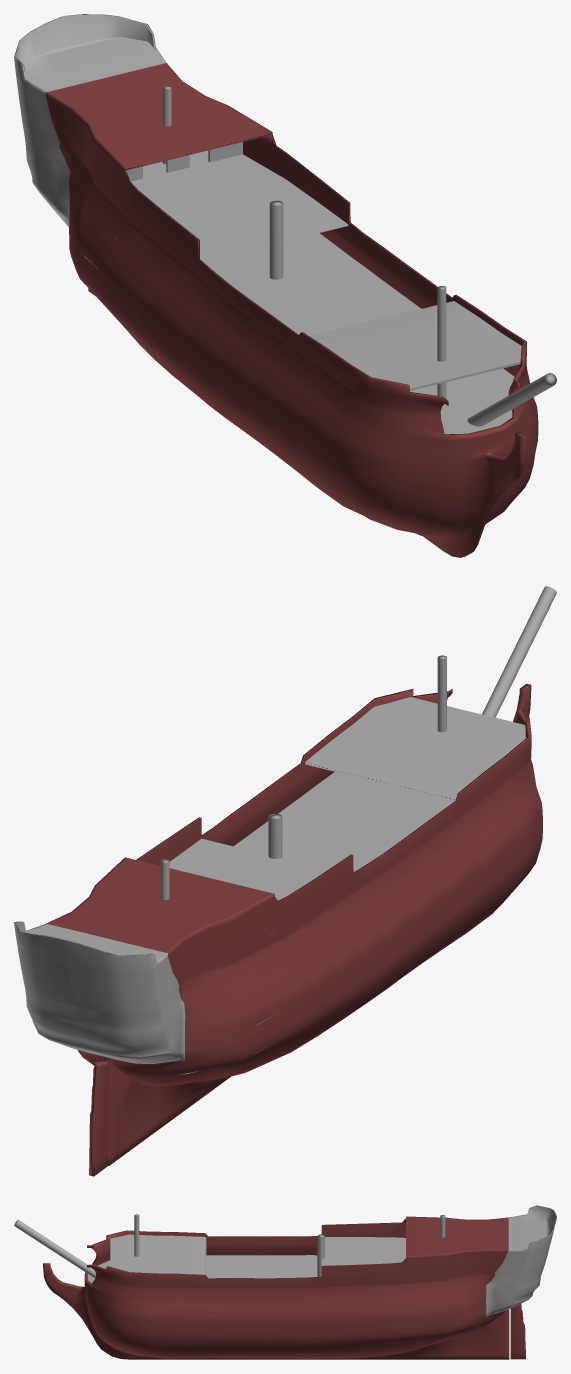
File: fase_8_HMS_Victory.fbx
3 views of the same model, one above another, from view 1: azimuth 30°, elevation 25°; view 2: azimuth 150°, elevation 25°; view 3: azimuth 270°, elevation 25° (orthographic). The views are drawn at different scales.
Parts seen in each view (by area): view 1: ShipHull5, pCube14, pCube16, pCylinder20, pCylinder21, pCube17, pCylinder23; view 2: ShipHull5, pCube14, pCube16, pCylinder20, pCylinder23; view 3: ShipHull5, pCube14, pCube16, pCylinder20, pCylinder21, pCylinder23.
Part boxes in pixels (x1,y1,x2,y2): ShipHull5: [14, 14, 538, 557]; pCube14: [131, 150, 521, 390]; pCube16: [115, 233, 514, 434]; pCylinder20: [467, 373, 556, 426]; pCylinder21: [269, 200, 283, 279]; pCube17: [126, 142, 242, 181]; pCylinder23: [437, 286, 446, 398]; ShipHull5: [14, 683, 542, 1176]; pCube14: [169, 697, 525, 900]; pCube16: [233, 772, 454, 871]; pCylinder20: [482, 586, 556, 717]; pCylinder23: [437, 655, 446, 732]; ShipHull5: [43, 1205, 556, 1359]; pCube14: [110, 1234, 405, 1275]; pCube16: [88, 1255, 434, 1297]; pCylinder20: [14, 1219, 96, 1277]; pCylinder21: [317, 1234, 324, 1276]; pCylinder23: [134, 1214, 139, 1256].
Size of the model in its own units: 15.92 by 21.21 by 72.5.
